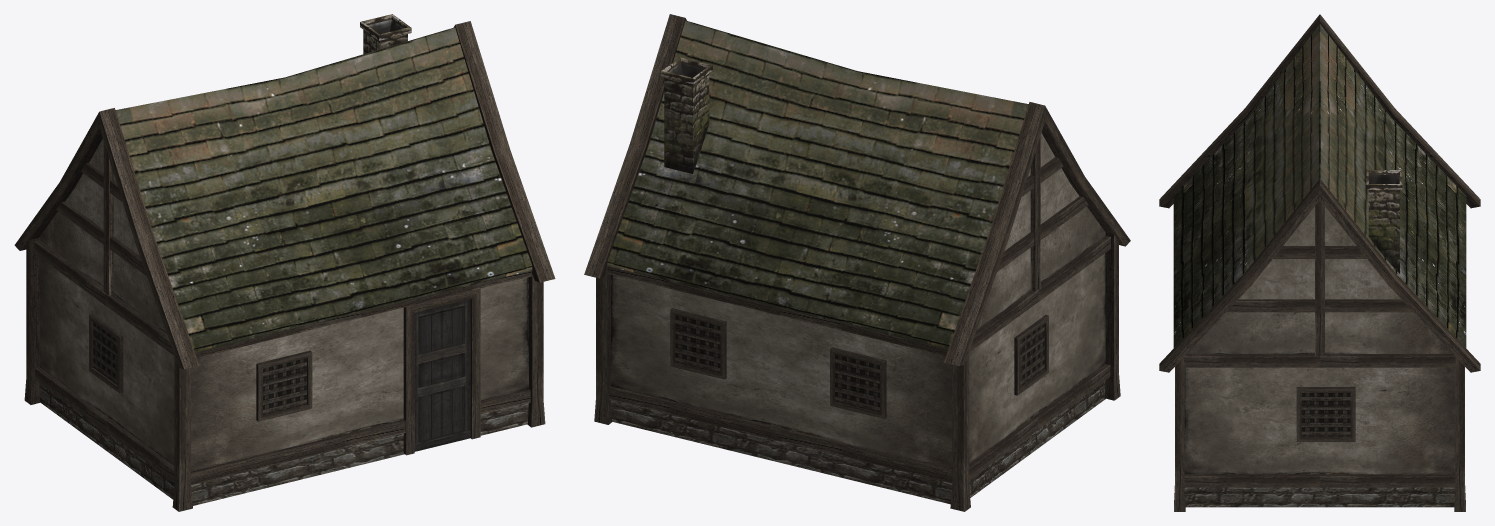
File: SC_yonghengsenlin_32.FBX
The picture shows the model from 3 angles, left to right: view 1: azimuth 30°, elevation 25°; view 2: azimuth 150°, elevation 25°; view 3: azimuth 270°, elevation 25°; orthographic projection. The views are drawn at different scales.
Parts seen in each view (by area): view 1: SC_yonghengsenlin_32; view 2: SC_yonghengsenlin_32; view 3: SC_yonghengsenlin_32.
Part boxes in pixels (left/top/right/bottom): SC_yonghengsenlin_32: left=14, top=14, right=555, bottom=511; SC_yonghengsenlin_32: left=584, top=14, right=1130, bottom=511; SC_yonghengsenlin_32: left=1159, top=14, right=1480, bottom=511.
Size of the model in its own units: 641 by 571 by 508.
